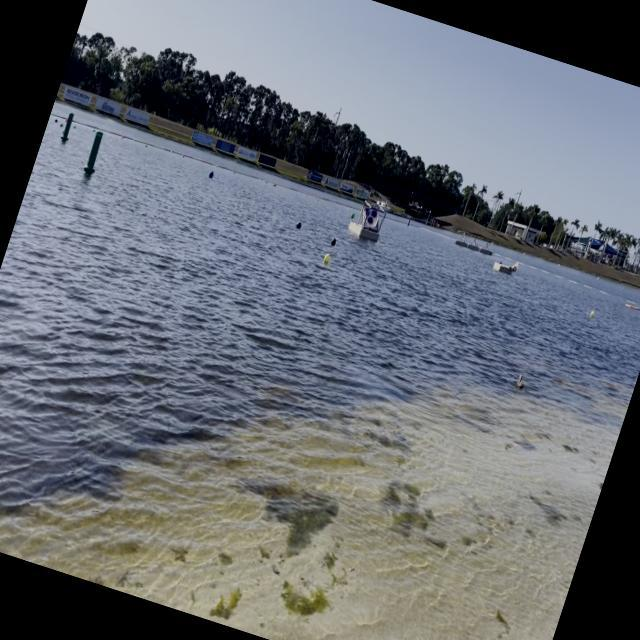buoy: (322, 251, 334, 265), (328, 236, 339, 248), (294, 220, 304, 232), (207, 170, 216, 182), (348, 210, 356, 222)
